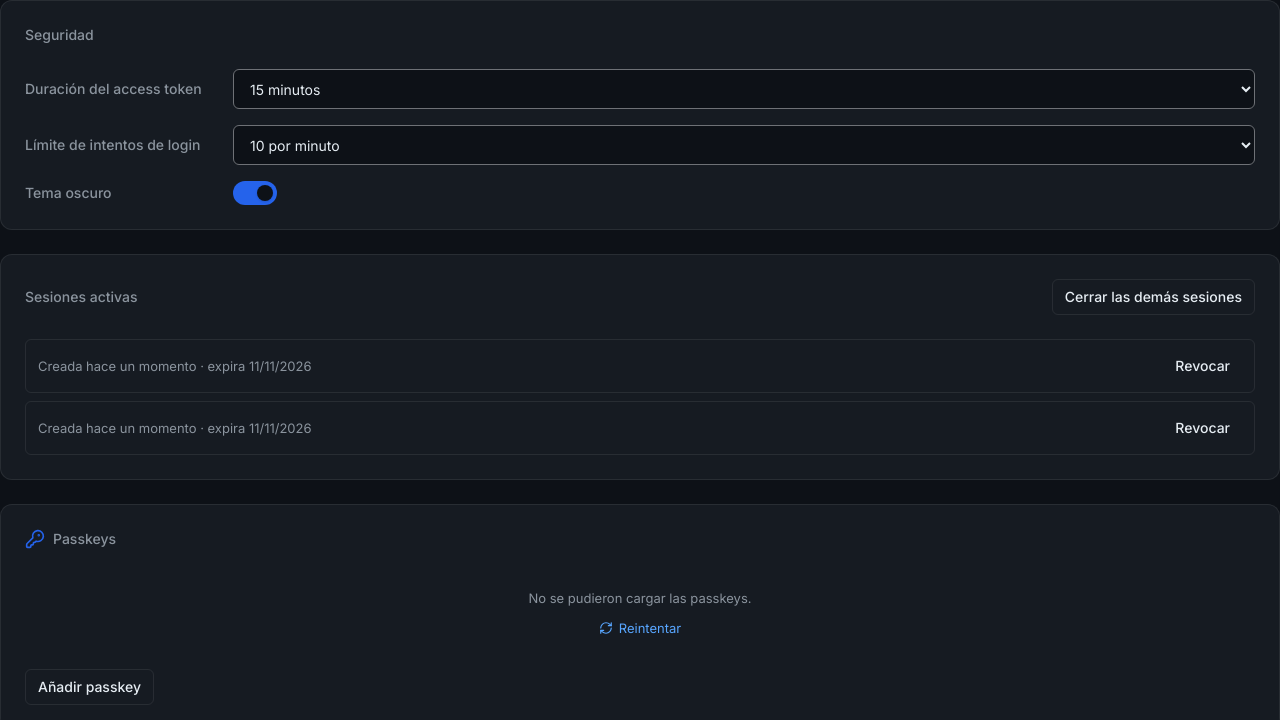
Test: SecuritySection › si fallan las passkeys se dice, no se pinta «sin passkeys», y reintentar las carga
The width and height of the screenshot is (1280, 720).
Check: the text "No se pudieron cargar las passkeys." is shown, box [528,589,752,607]
Click the button "Reintentar" at (640, 628), box [591,615,689,641]
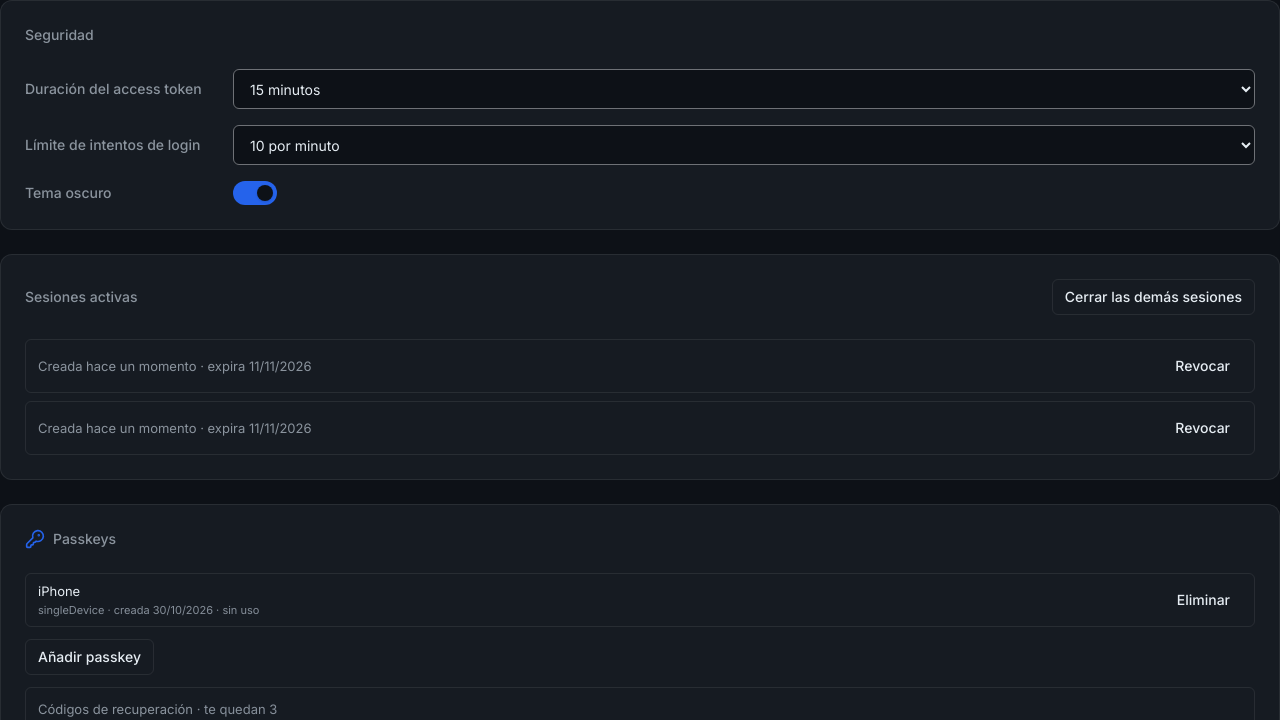
Check: the text "iPhone" is shown, box [38,583,80,599]
